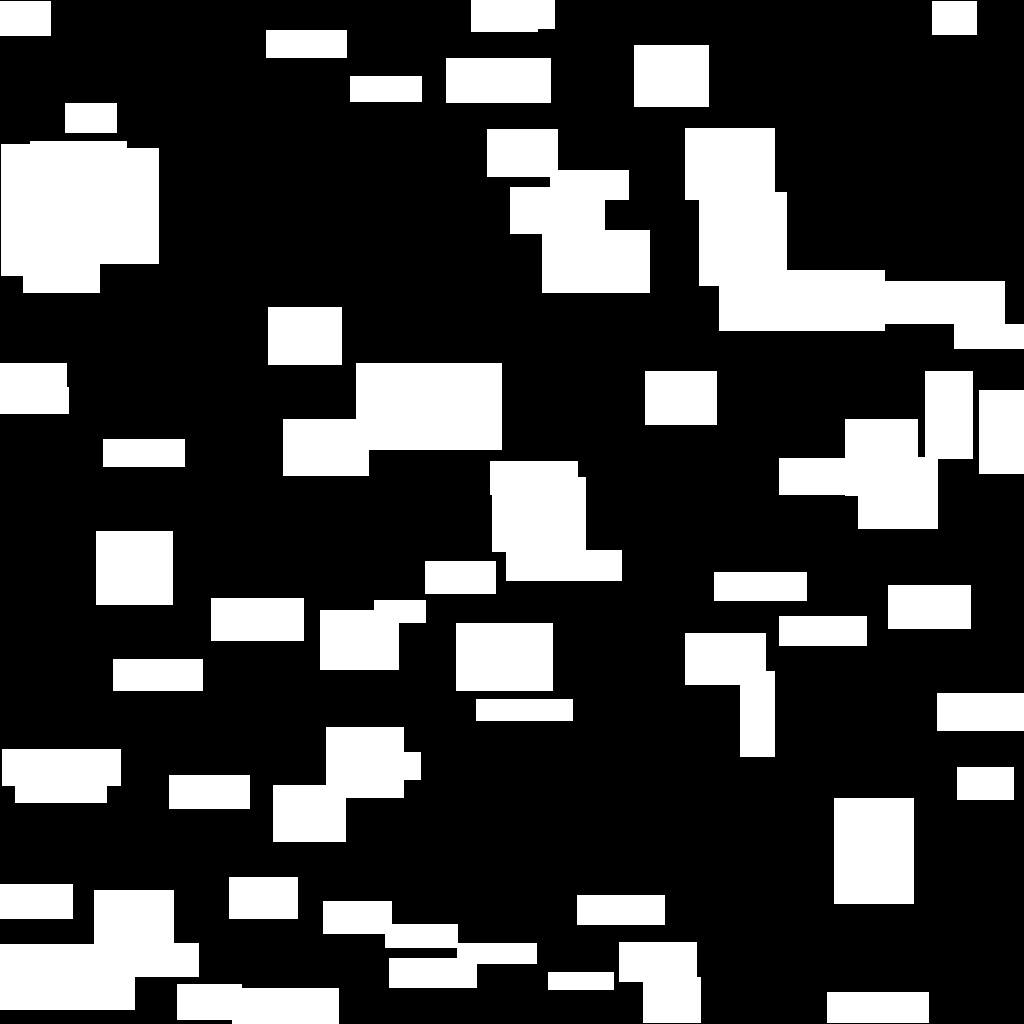wheat_head: (36, 148, 158, 263), (356, 363, 501, 449), (719, 270, 884, 330), (0, 944, 134, 1009), (834, 798, 913, 903), (699, 192, 786, 285), (30, 141, 126, 215), (492, 477, 585, 551), (542, 230, 649, 292), (456, 623, 552, 690), (685, 128, 774, 199), (854, 281, 1004, 323), (858, 457, 937, 528), (96, 531, 172, 604), (845, 419, 917, 495), (326, 727, 403, 797), (283, 419, 368, 475), (320, 610, 398, 669), (446, 58, 550, 102), (634, 45, 708, 106), (94, 890, 173, 946), (510, 187, 604, 233), (2, 749, 120, 785), (268, 307, 341, 364), (925, 371, 972, 458), (685, 633, 765, 684), (273, 785, 345, 841), (1, 144, 68, 204), (211, 598, 303, 640), (232, 988, 338, 1024), (645, 371, 716, 424), (979, 390, 1024, 473), (779, 458, 880, 494), (888, 585, 970, 628), (506, 550, 621, 580), (487, 129, 557, 176), (937, 693, 1024, 730), (827, 992, 928, 1022), (619, 942, 696, 981), (740, 671, 774, 756), (490, 461, 577, 494), (229, 877, 297, 918), (113, 659, 202, 690), (23, 256, 99, 292), (169, 775, 249, 808), (1, 187, 57, 234), (714, 572, 806, 600), (643, 977, 700, 1022), (577, 895, 664, 924), (389, 958, 476, 987), (779, 616, 866, 645), (0, 884, 72, 918), (126, 943, 198, 976), (550, 170, 628, 199), (425, 561, 495, 593), (177, 984, 241, 1019), (103, 439, 184, 466), (323, 901, 391, 933), (266, 30, 346, 57), (1, 229, 46, 275), (471, 0, 537, 31), (476, 699, 572, 720), (349, 752, 420, 779), (15, 782, 106, 802), (957, 767, 1013, 799), (350, 76, 421, 101), (0, 387, 68, 413), (0, 1, 50, 35), (954, 324, 1024, 348), (385, 924, 457, 947), (457, 943, 536, 963), (0, 363, 66, 386), (65, 103, 116, 132), (932, 1, 976, 34), (374, 600, 425, 622), (548, 972, 613, 989), (517, 0, 554, 28)
